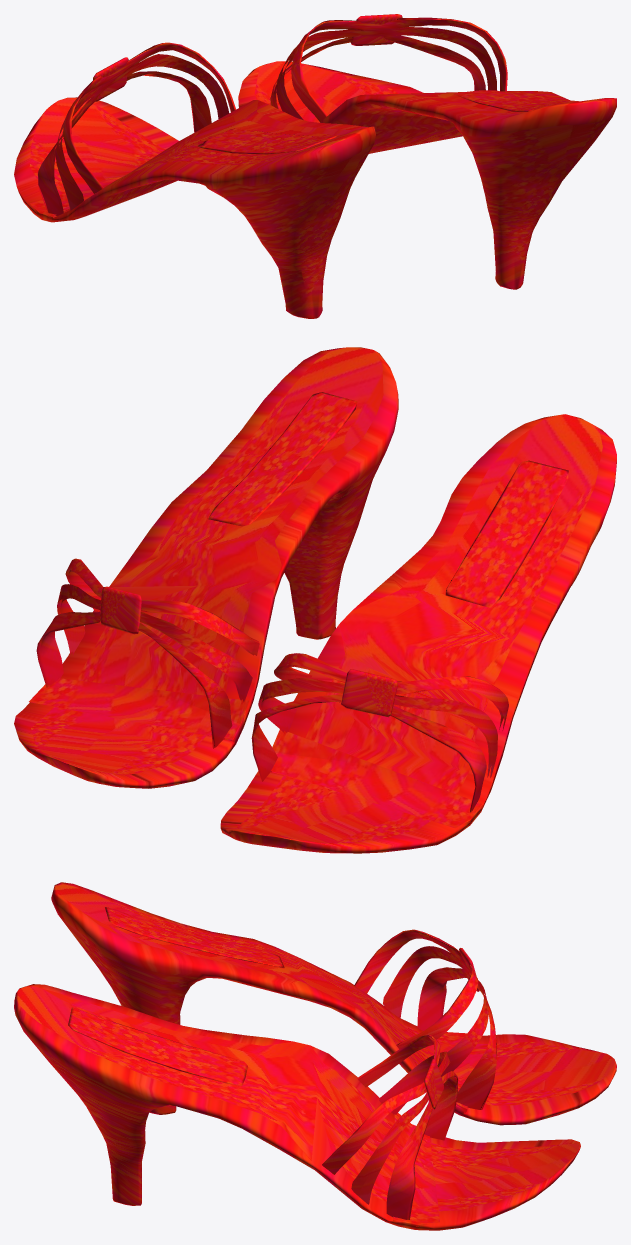
The model's file is frl_apartment_shoe_03.glb.
3 views of the same model, one above another, from view 1: azimuth 30°, elevation 25°; view 2: azimuth 150°, elevation 25°; view 3: azimuth 270°, elevation 25° (orthographic). The views are drawn at different scales.
Parts seen in each view (by area): view 1: frl_apartment_shoe_03; view 2: frl_apartment_shoe_03; view 3: frl_apartment_shoe_03.
Boxes of the visible parts, x1,y1,x2,y2 form: frl_apartment_shoe_03: (14, 14, 616, 318); frl_apartment_shoe_03: (14, 347, 616, 853); frl_apartment_shoe_03: (14, 882, 616, 1230).
Size of the model in its own units: 0.2137 by 0.1083 by 0.2729.
Materials: 1 (1 with a texture image).
